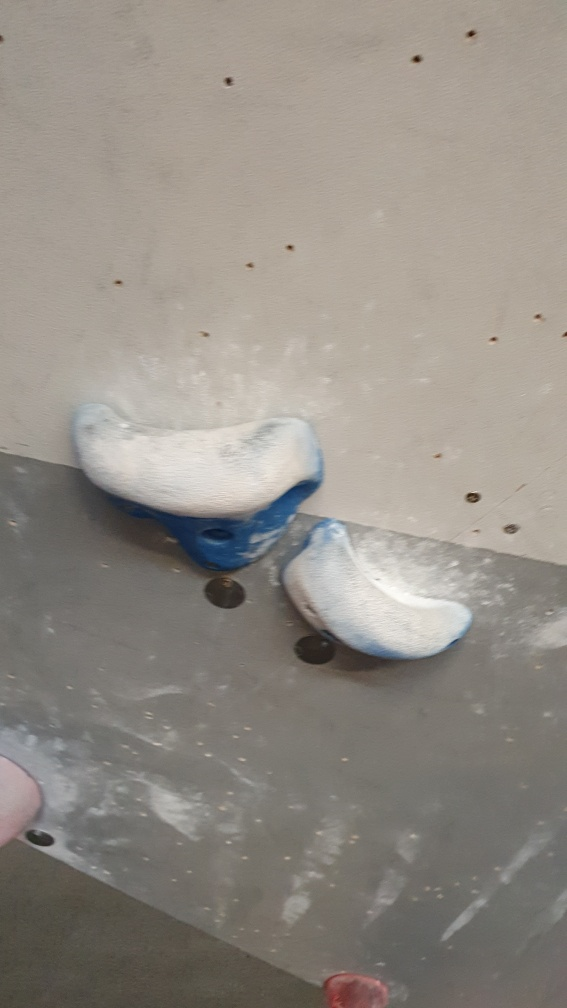Hand Start: (291, 629, 344, 673), (197, 570, 249, 612), (23, 823, 63, 857)
Jug: (70, 401, 326, 570), (280, 515, 472, 672)
Sloper: (319, 959, 388, 1008)
